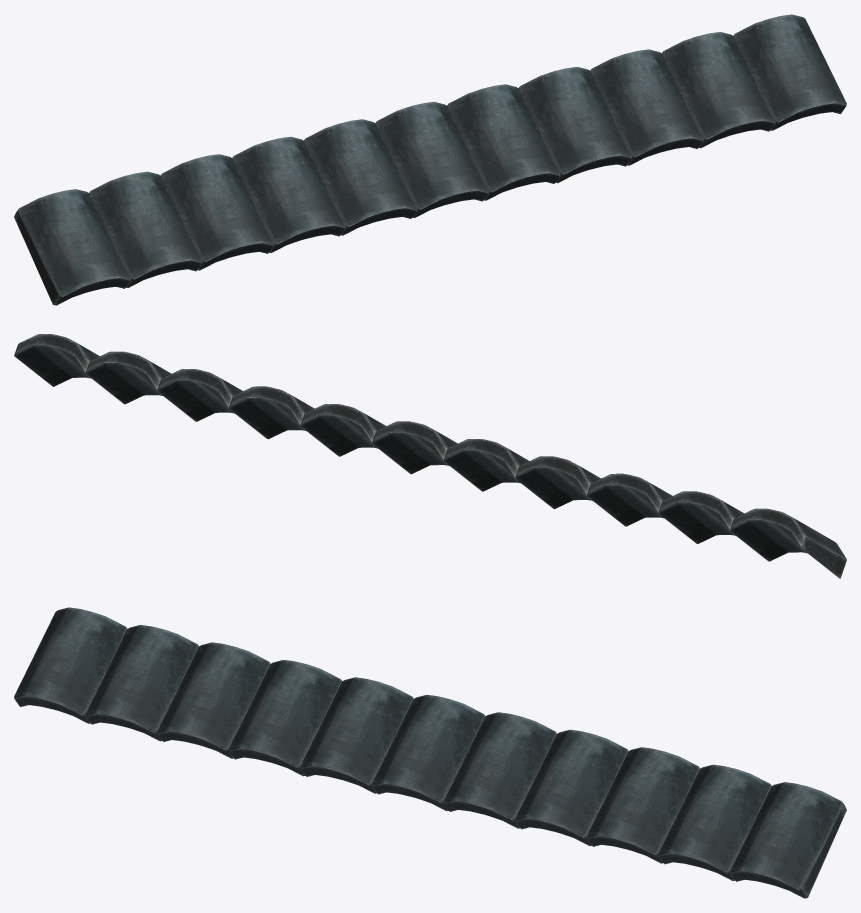
The model's file is tiles01.fbx.
3 views of the same model, one above another, from view 1: azimuth 30°, elevation 25°; view 2: azimuth 150°, elevation 25°; view 3: azimuth 330°, elevation 25° (orthographic).
Visible parts, largest first — view 1: Tiles.005; view 2: Tiles.005; view 3: Tiles.005.
Part boxes in pixels (<box>): Tiles.005: <box>14,14,846,305</box>; Tiles.005: <box>14,334,846,578</box>; Tiles.005: <box>14,607,846,898</box>.
Bounding box in the file's own units: 13908 × 1383 × 1603.
